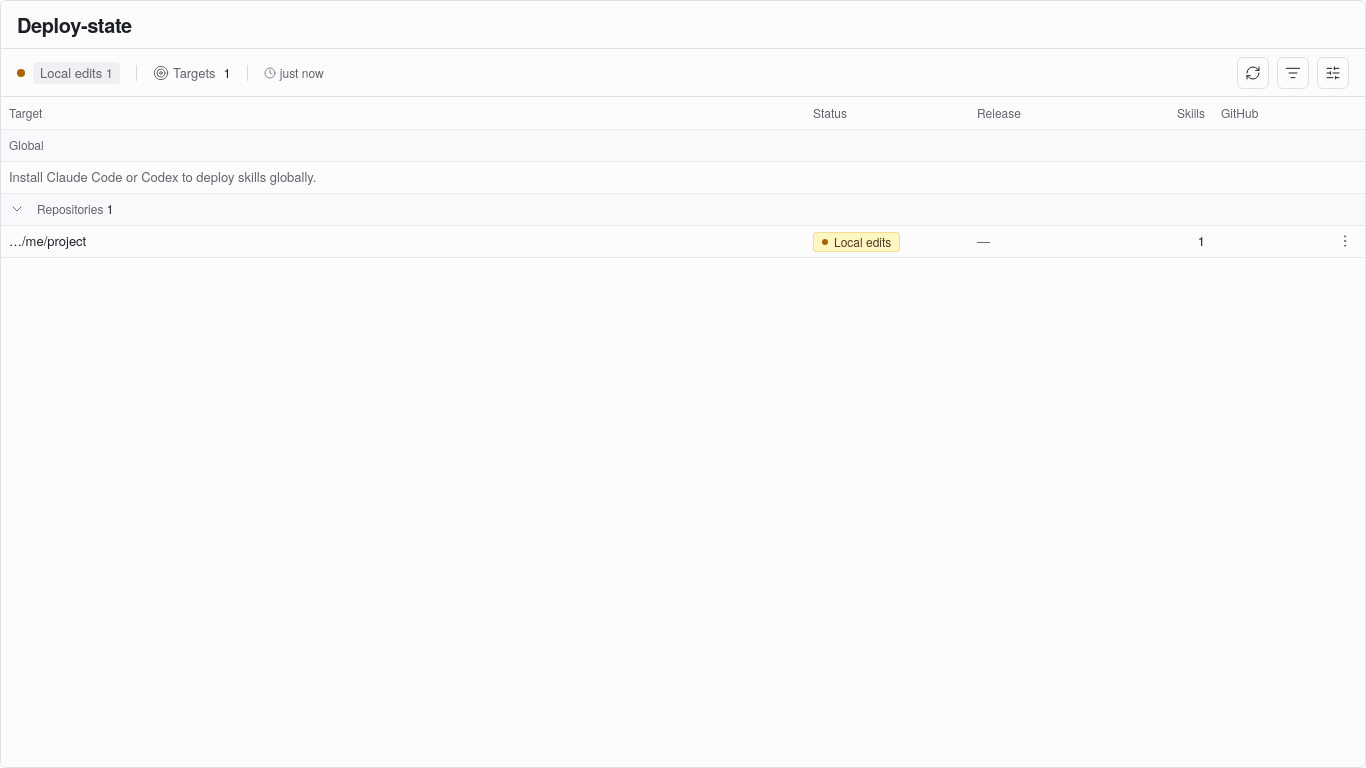
Test: Deploy-state — Import local edits on a repository › leads the row's menu with Import local edits
Click the button named "Actions for …/me/project". click: (1345, 240)
box: [1333, 228, 1357, 252]
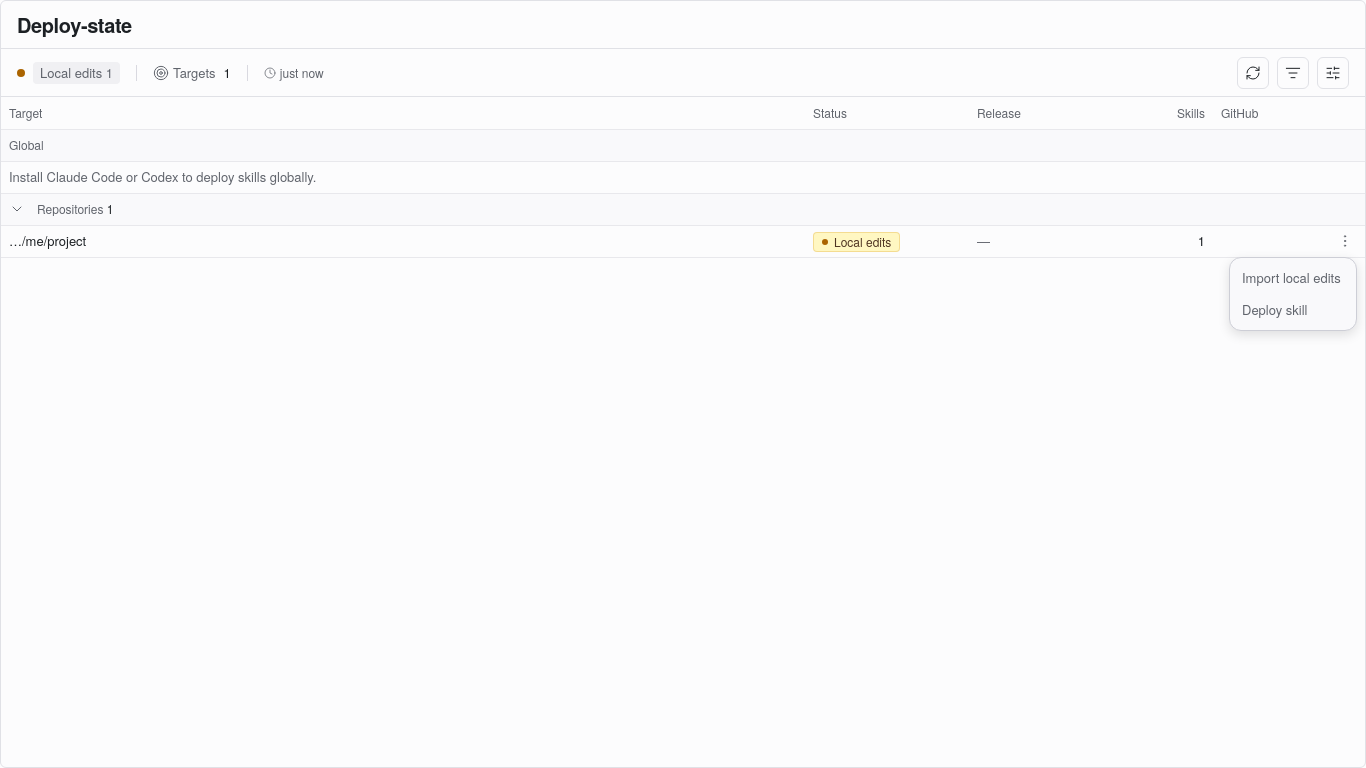
Now the menu items read "Import local edits", "Deploy skill", in this order, box [1242, 268, 1341, 287]; [1242, 300, 1308, 319]
